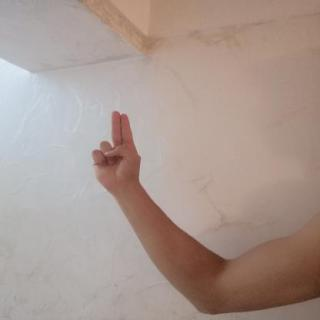TA: (80, 104, 151, 192)
